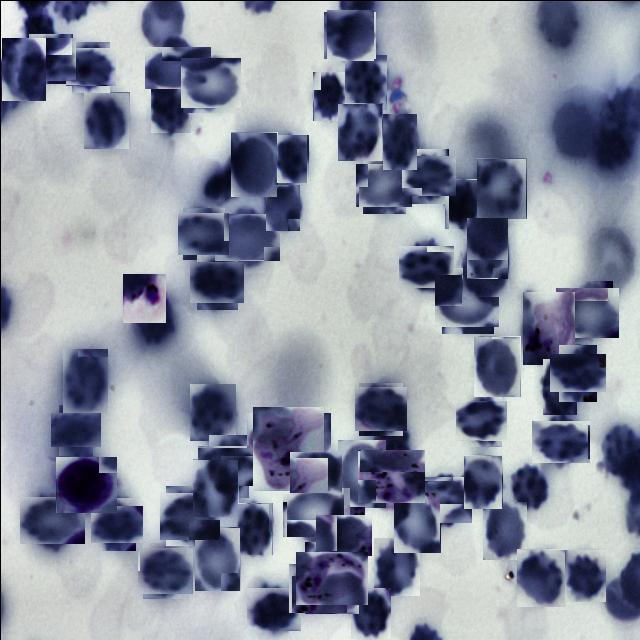leukocyte: (56, 454, 116, 514)
red blood cell: (438, 271, 497, 330), (286, 482, 344, 540), (22, 491, 80, 548), (337, 439, 385, 507), (558, 283, 615, 340), (218, 209, 275, 265), (182, 54, 238, 110), (230, 131, 277, 196), (476, 157, 526, 218), (62, 347, 108, 412), (150, 40, 204, 95), (194, 526, 240, 590), (162, 488, 216, 542), (290, 560, 344, 614), (473, 335, 520, 396), (393, 491, 440, 552), (516, 548, 565, 606), (1, 38, 45, 102), (462, 236, 508, 296), (373, 537, 419, 595), (192, 458, 238, 516), (202, 440, 254, 491), (83, 91, 129, 148), (189, 383, 235, 440), (337, 102, 382, 160), (466, 216, 508, 278), (140, 544, 190, 596), (482, 501, 526, 559), (418, 474, 469, 524), (534, 416, 584, 466), (358, 160, 408, 210), (324, 10, 374, 60), (402, 241, 451, 291), (318, 509, 368, 558), (248, 584, 297, 632), (356, 384, 404, 433), (344, 54, 386, 109), (404, 152, 452, 200), (192, 258, 240, 306), (553, 348, 601, 396), (26, 34, 74, 82), (292, 448, 339, 495), (180, 210, 227, 256), (507, 462, 550, 512), (564, 549, 605, 601), (463, 454, 502, 508), (458, 397, 503, 443), (350, 587, 390, 638), (94, 501, 139, 546), (68, 44, 112, 89), (382, 113, 416, 169), (542, 358, 576, 414), (444, 178, 481, 228), (150, 86, 190, 132), (237, 502, 272, 554), (54, 408, 96, 451), (136, 296, 172, 345), (312, 70, 346, 120), (275, 133, 309, 182), (265, 183, 300, 230), (21, 4, 55, 48)
trophozoite: (249, 409, 327, 487), (300, 546, 362, 608), (522, 291, 574, 364), (360, 446, 420, 506), (122, 273, 165, 322)
